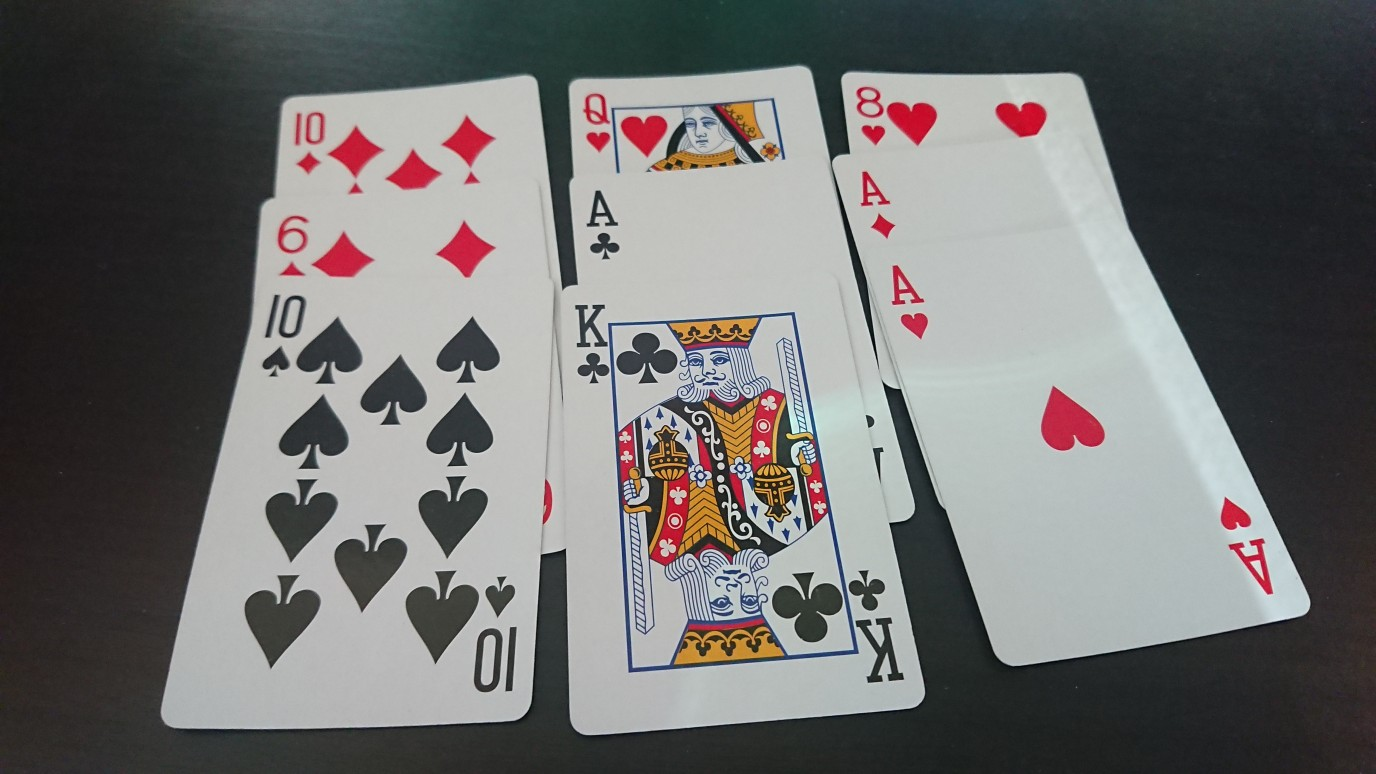10D: (291, 108, 327, 178)
10S: (260, 292, 309, 381)
6D: (275, 212, 311, 276)
8H: (851, 83, 888, 150)
AC: (584, 187, 624, 263)
AD: (855, 166, 900, 243)
AH: (887, 261, 932, 342)
KC: (571, 300, 614, 387)
QH: (581, 90, 614, 155)
